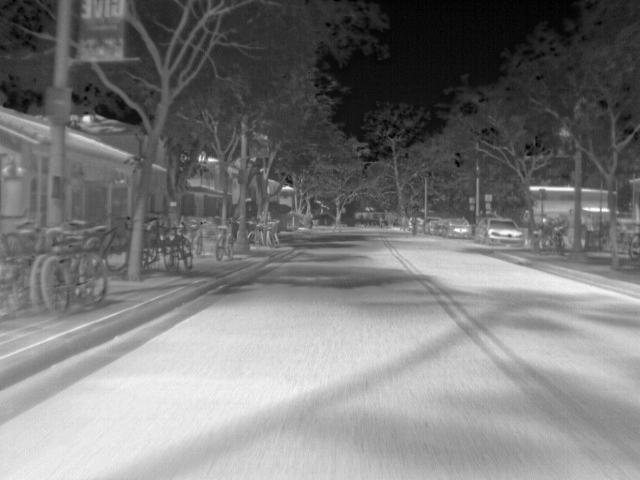car: (474, 214, 525, 246), (442, 218, 472, 240), (426, 218, 444, 237), (415, 214, 426, 230)
person: (564, 207, 576, 246), (229, 215, 240, 257), (540, 214, 550, 246), (179, 221, 186, 238), (411, 213, 417, 224)
